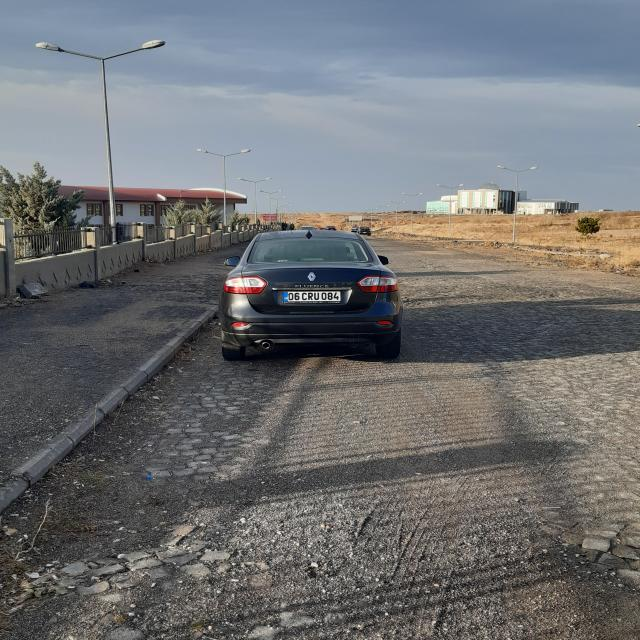license_plate: (282, 291, 342, 302)
